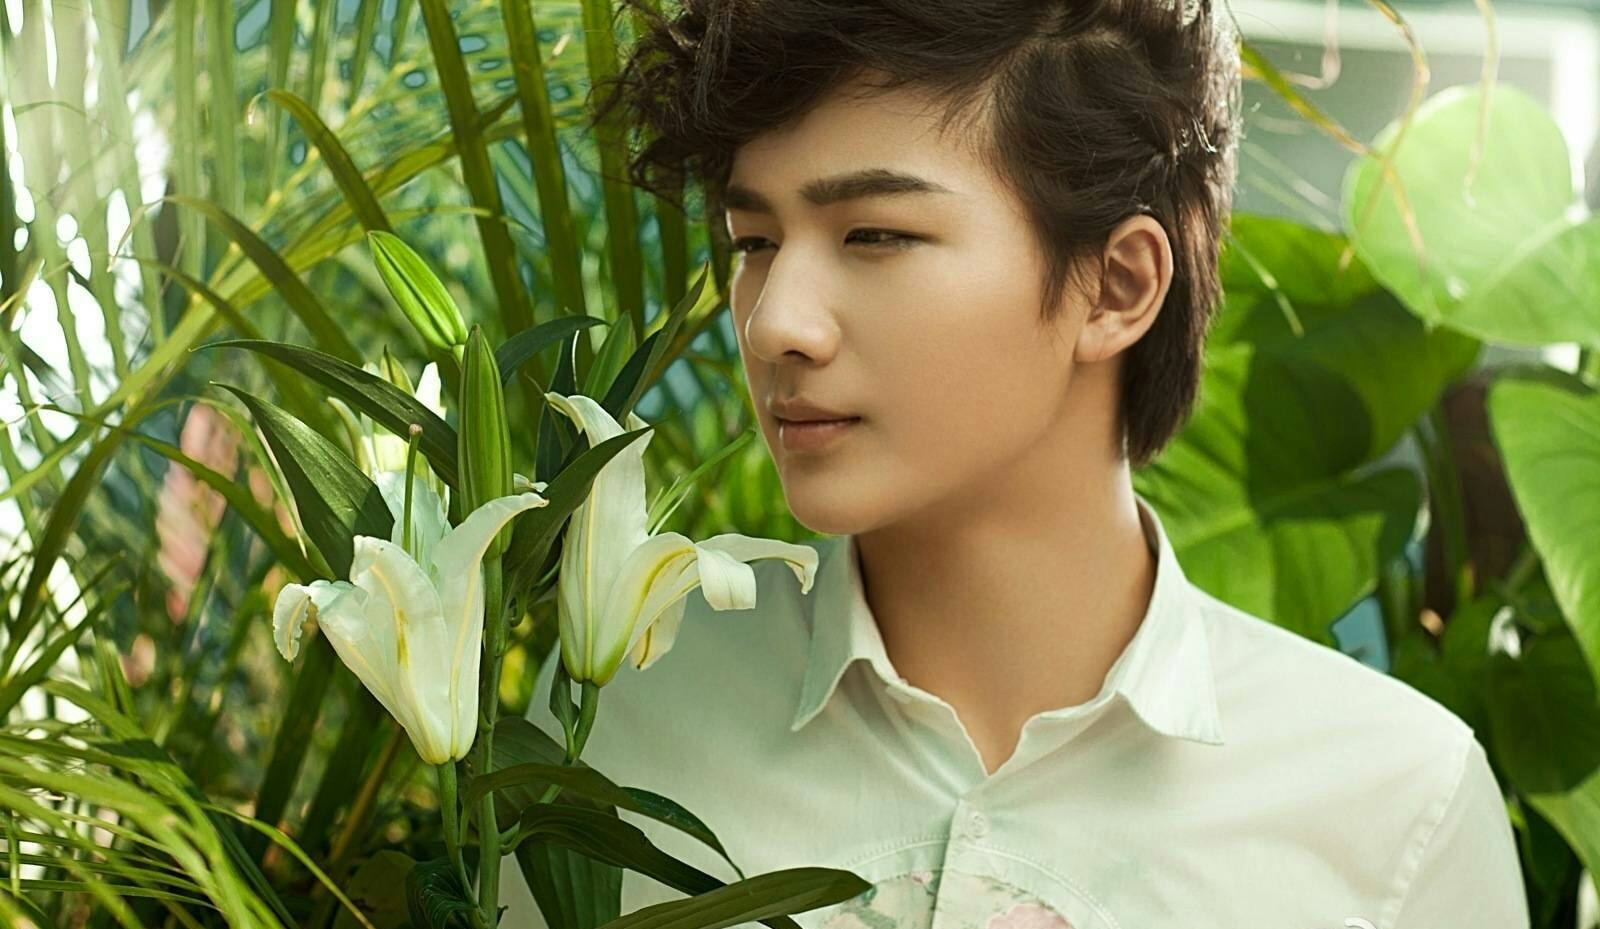person: (594, 21, 1270, 929)
